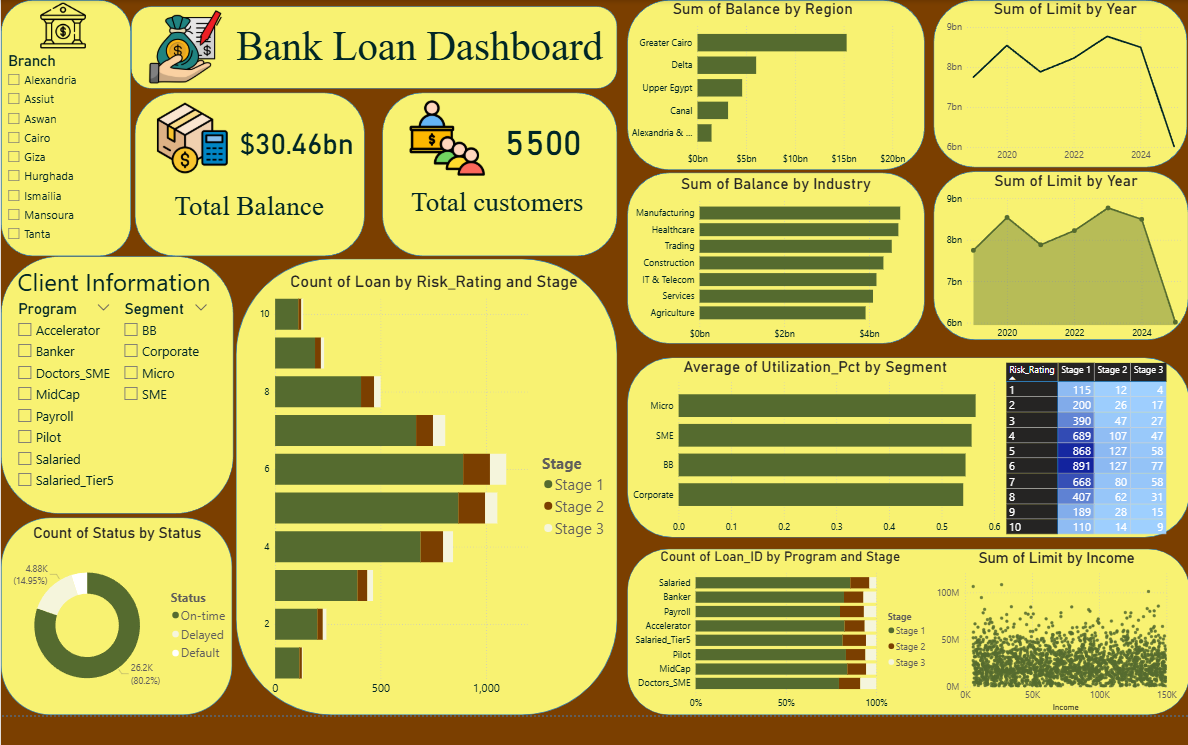

What the dashboard file says about the page in this screenshot:
{"tool":"powerbi","page":{"name":"Page 1","canvas":[2100,1263],"ordinal":0},"visuals":[{"type":"shape","box":[1106.5,969.6,993.9,293.8],"z":0},{"type":"shape","box":[673.6,163.4,415.2,289.3],"z":1000},{"type":"shape","box":[236.3,163.4,406.4,289.3],"z":2000},{"type":"shape","box":[0,452.8,410.8,455],"z":3000},{"type":"shape","box":[1106.5,631.7,993.9,318],"z":4000},{"type":"shape","box":[1647.7,302.6,450.6,298.2],"z":5000},{"type":"shape","box":[1106.5,304.8,525.7,302.6],"z":6000},{"type":"shape","box":[1647.7,0,448.4,296],"z":7000},{"type":"shape","box":[1106.5,0,525.7,300.4],"z":8000},{"type":"shape","box":[0,914.4,408.6,349],"z":9000},{"type":"shape","box":[415.2,457.2,673.6,806.2],"z":10000},{"type":"shape","box":[229.7,11,859.2,145.8],"z":11000},{"type":"shape","box":[0,0,229.7,452.8],"z":12000},{"type":"barChart","fields":{"Category":["Customers.Region"],"Y":["Sum(Loans.Balance)"]},"box":[1088.9,0,514.6,302.6],"z":13000},{"type":"lineChart","fields":{"Category":["Loans.Approval_Date.Variation.Date Hierarchy.Year"],"Y":["Sum(Loans.Limit)"]},"box":[1665.3,0,430.7,296],"z":14000},{"type":"donutChart","fields":{"Category":["Payments.Status"],"Y":["CountNonNull(Payments.Status)"]},"box":[0,925.4,410.8,329.1],"z":15000},{"type":"barChart","fields":{"Category":["Customers.Industry"],"Y":["Sum(Loans.Balance)"]},"box":[1106.5,309.2,525.7,302.6],"z":16000},{"type":"barChart","fields":{"Category":["Loans.Segment"],"Y":["Avg(Loans.Utilization_Pct)"]},"box":[1106.5,631.7,664.8,320.3],"z":17000},{"type":"scatterChart","fields":{"X":["Customers.Income"],"Y":["Sum(Loans.Limit)"]},"box":[1647.7,969.6,435.1,293.8],"z":18000},{"type":"barChart","title":"Count of Loan by Risk_Rating and Stage","fields":{"Series":["Loans.Stage"],"Category":["Loans.Risk_Rating"],"Y":["CountNonNull(Loans.Loan_ID)"]},"box":[450.6,479.3,629.5,759.8],"z":19000},{"type":"pivotTable","fields":{"Rows":["Loans.Risk_Rating"],"Columns":["Loans.Stage"],"Values":["CountNonNull(Loans.Loan_ID)"]},"box":[1771.4,636.1,300.4,322.5],"z":20000},{"type":"areaChart","fields":{"Category":["Loans.Year"],"Y":["Sum(Loans.Limit)"]},"box":[1665.3,302.6,432.9,307],"z":21000},{"type":"textbox","box":[410.8,35.3,678.1,106],"z":22000},{"type":"image","box":[13.3,0,192.2,90.6],"z":23000},{"type":"hundredPercentStackedBarChart","fields":{"Category":["Loans.Program"],"Series":["Loans.Stage"],"Y":["CountNonNull(Loans.Loan_ID)"]},"box":[1106.5,969.6,541.1,293.8],"z":24000},{"type":"slicer","title":" رى","fields":{"Values":["Loans.Branch"]},"box":[0,86.1,236.3,408.6],"z":25000},{"type":"slicer","fields":{"Values":["Loans.Segment"]},"box":[205.4,525.7,172.3,207.6],"z":26000},{"type":"slicer","fields":{"Values":["Loans.Program"]},"box":[17.7,525.7,187.7,353.4],"z":27000},{"type":"textbox","box":[24.3,463.8,406.4,77.3],"z":28000},{"type":"image","box":[236.3,13.3,178.9,139.1],"z":29000},{"type":"card","fields":{"Values":["Sum(Loans.Balance)"]},"box":[360,172.3,324.7,152.4],"z":30000},{"type":"card","fields":{"Values":["CountNonNull(Loans.Customer_ID)"]},"box":[808.4,156.8,298.2,174.5],"z":31000},{"type":"textbox","box":[273.9,331.3,329.1,81.7],"z":32000},{"type":"image","box":[231.9,172.3,212,143.6],"z":33000},{"type":"image","box":[673.6,172.3,229.7,143.6],"z":34000},{"type":"textbox","box":[697.9,324.7,357.8,79.5],"z":35000}]}

Visuals, with their boxes in screenshot pixels (x1, y1, x2, y2):
shape: select_region(623, 544, 1178, 708)
shape: select_region(382, 94, 614, 256)
shape: select_region(138, 94, 365, 256)
shape: select_region(6, 256, 235, 510)
shape: select_region(623, 356, 1178, 533)
shape: select_region(925, 172, 1177, 338)
shape: select_region(623, 173, 917, 342)
shape: select_region(925, 3, 1176, 168)
shape: select_region(623, 3, 917, 171)
shape: select_region(6, 513, 234, 708)
shape: select_region(238, 258, 614, 708)
shape: select_region(134, 9, 614, 91)
shape: select_region(6, 3, 134, 256)
barChart - Customers.Region x Sum(Loans.Balance): select_region(614, 3, 901, 172)
lineChart - Loans.Approval_Date.Variation.Date Hierarchy.Year x Sum(Loans.Limit): select_region(935, 3, 1176, 168)
donutChart - Payments.Status x CountNonNull(Payments.Status): select_region(6, 519, 235, 703)
barChart - Customers.Industry x Sum(Loans.Balance): select_region(623, 176, 917, 344)
barChart - Loans.Segment x Avg(Loans.Utilization_Pct): select_region(623, 356, 994, 534)
scatterChart - Customers.Income x Sum(Loans.Limit): select_region(925, 544, 1168, 708)
"Count of Loan by Risk_Rating and Stage" barChart: select_region(258, 270, 609, 694)
pivotTable - Loans.Risk_Rating x Loans.Stage: select_region(994, 358, 1162, 538)
areaChart - Loans.Year x Sum(Loans.Limit): select_region(935, 172, 1177, 343)
textbox: select_region(235, 23, 614, 82)
image: select_region(14, 3, 121, 54)
hundredPercentStackedBarChart - Loans.Program x Loans.Stage: select_region(623, 544, 925, 708)
" رى" slicer: select_region(6, 51, 138, 279)
slicer - Loans.Segment: select_region(121, 296, 217, 412)
slicer - Loans.Program: select_region(16, 296, 121, 494)
textbox: select_region(20, 262, 246, 305)
image: select_region(138, 11, 238, 88)
card - Sum(Loans.Balance): select_region(207, 99, 388, 184)
card - CountNonNull(Loans.Customer_ID): select_region(457, 91, 624, 188)
textbox: select_region(159, 188, 343, 233)
image: select_region(136, 99, 254, 179)
image: select_region(382, 99, 510, 179)
textbox: select_region(396, 184, 595, 229)
